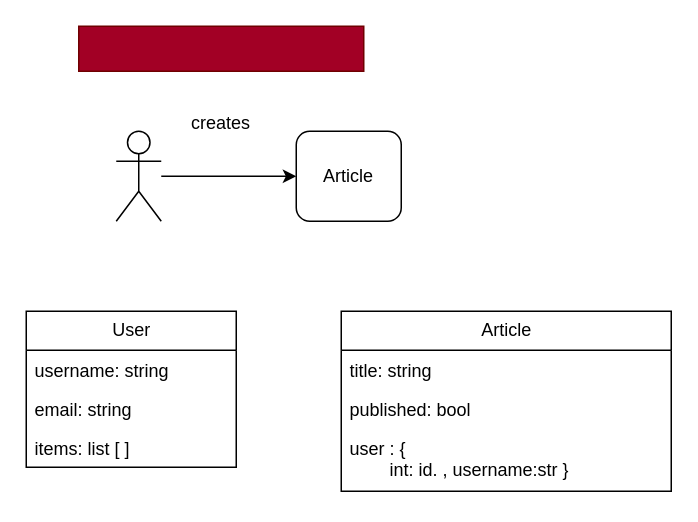
Some shapes in this 698 by 522 pixel diagram are drawn without their labels. The shapes that lost their labels are listed below. From the top down, each one's centre as x and y in pixels, then its label:
the point at 220,48: one to many
the point at 138,175: Actor
